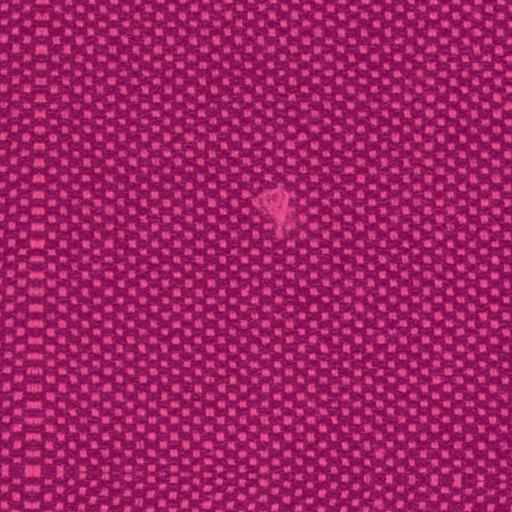knot: (253, 176, 300, 240)
